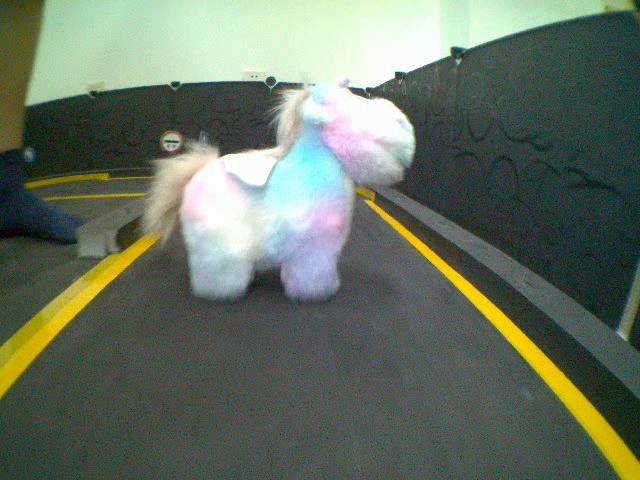unicorn: (142, 77, 421, 310)
